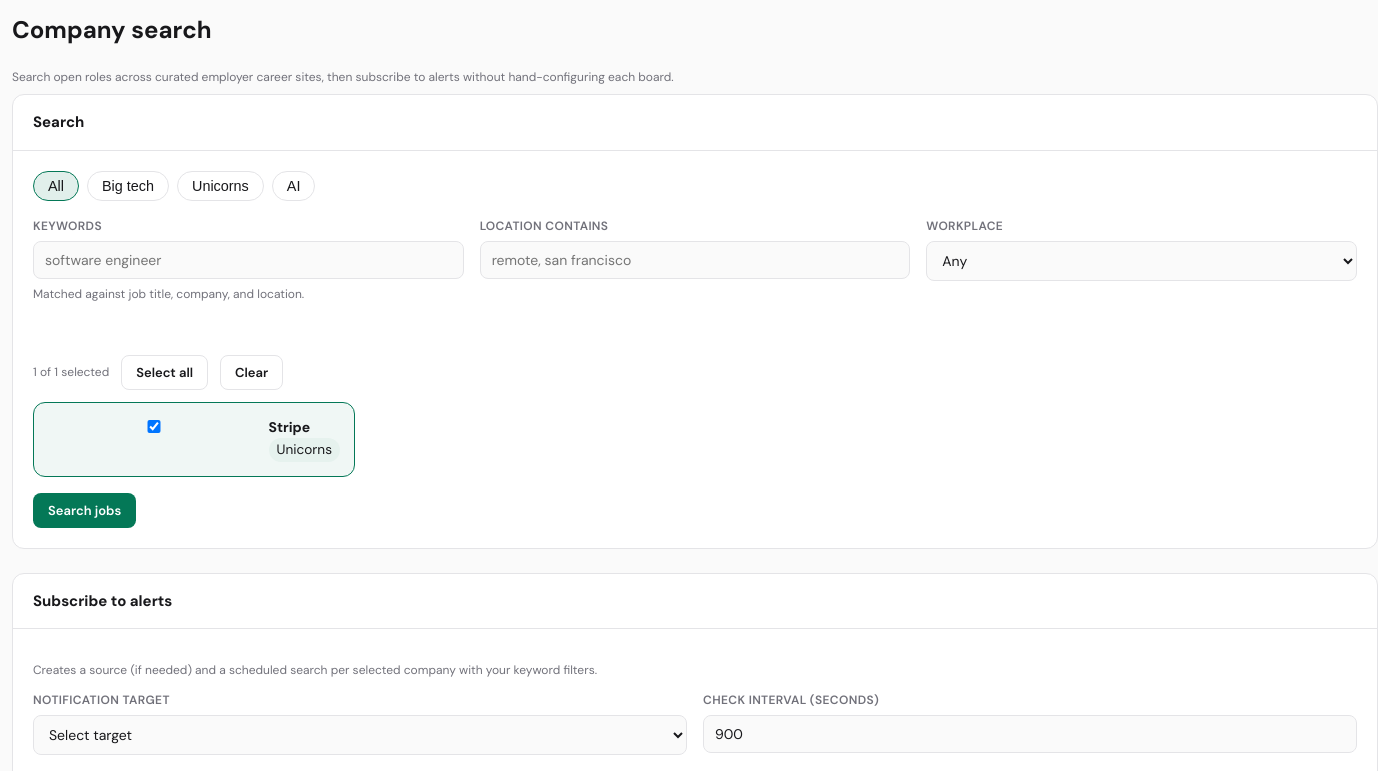
Test: PortalsPage › shows an error banner when searching without keywords
Expected: the text "Stripe" is shown, x1=268 y1=418 x2=310 y2=436
Click the button "Search jobs" at (85, 510), box x1=33 y1=493 x2=136 y2=528
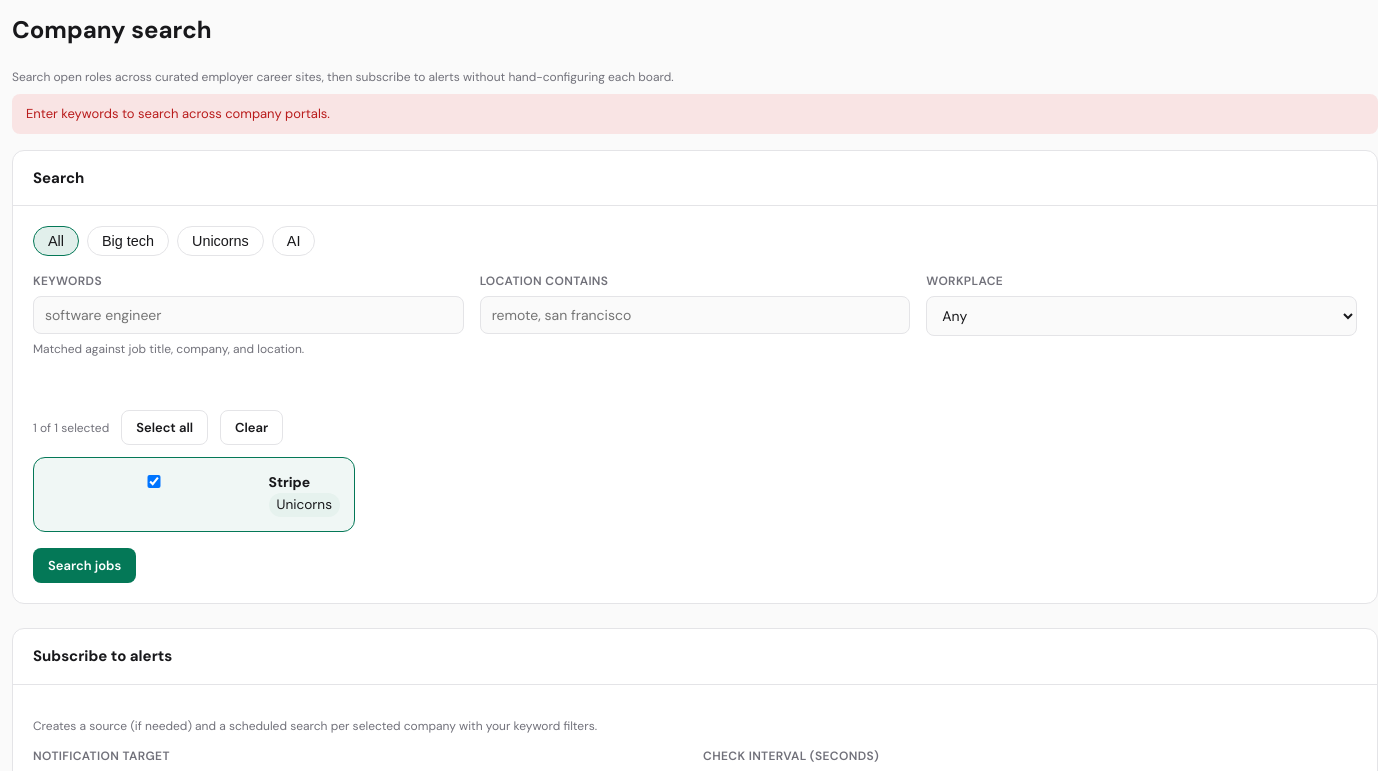
Result: the text "Enter keywords to search across company portals." is shown at x1=12 y1=94 x2=1377 y2=134
